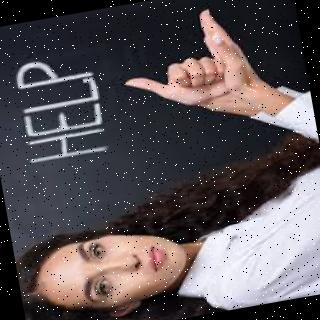Help: (108, 0, 264, 133)
